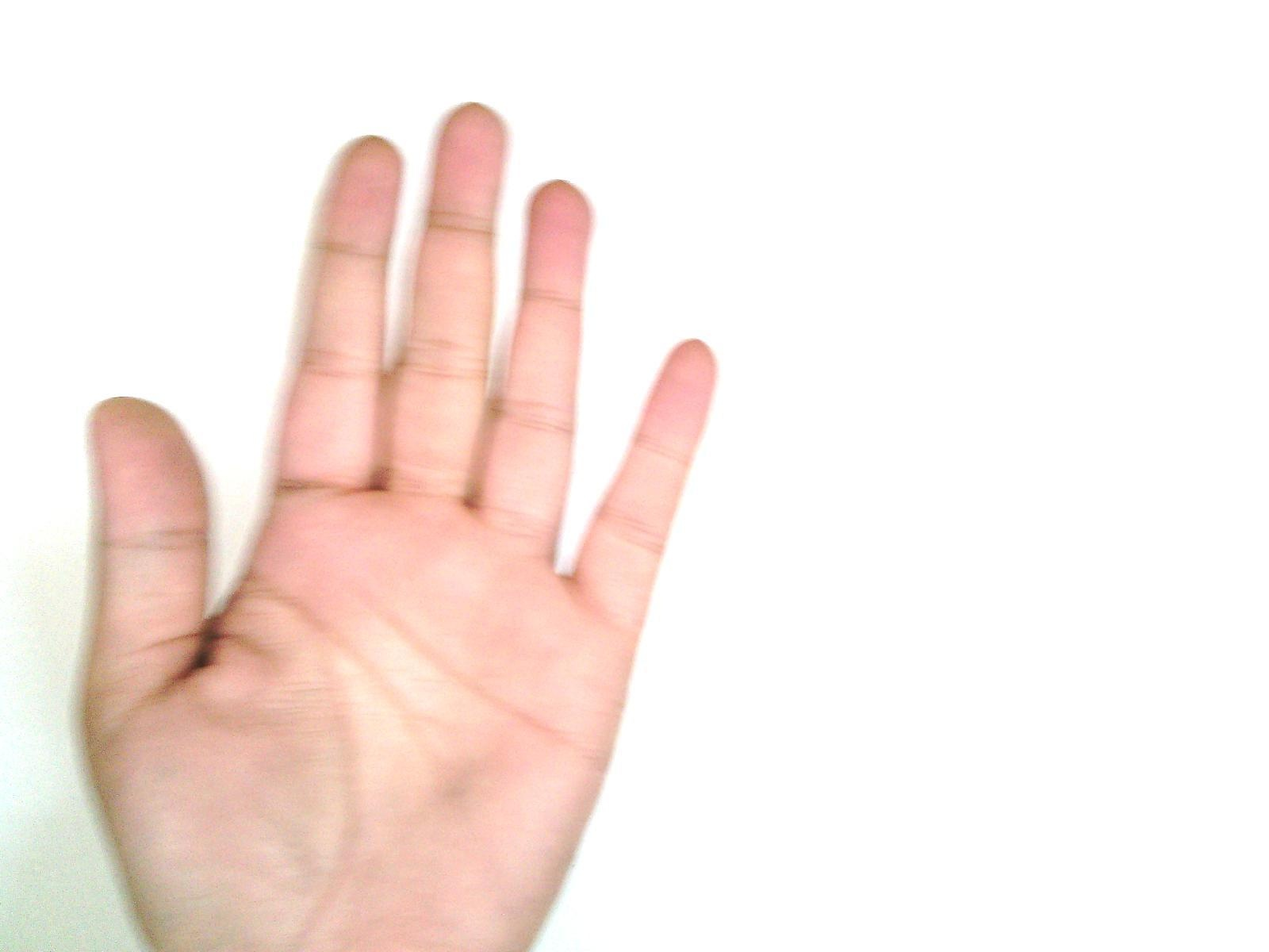open_palm: (75, 101, 722, 951)
